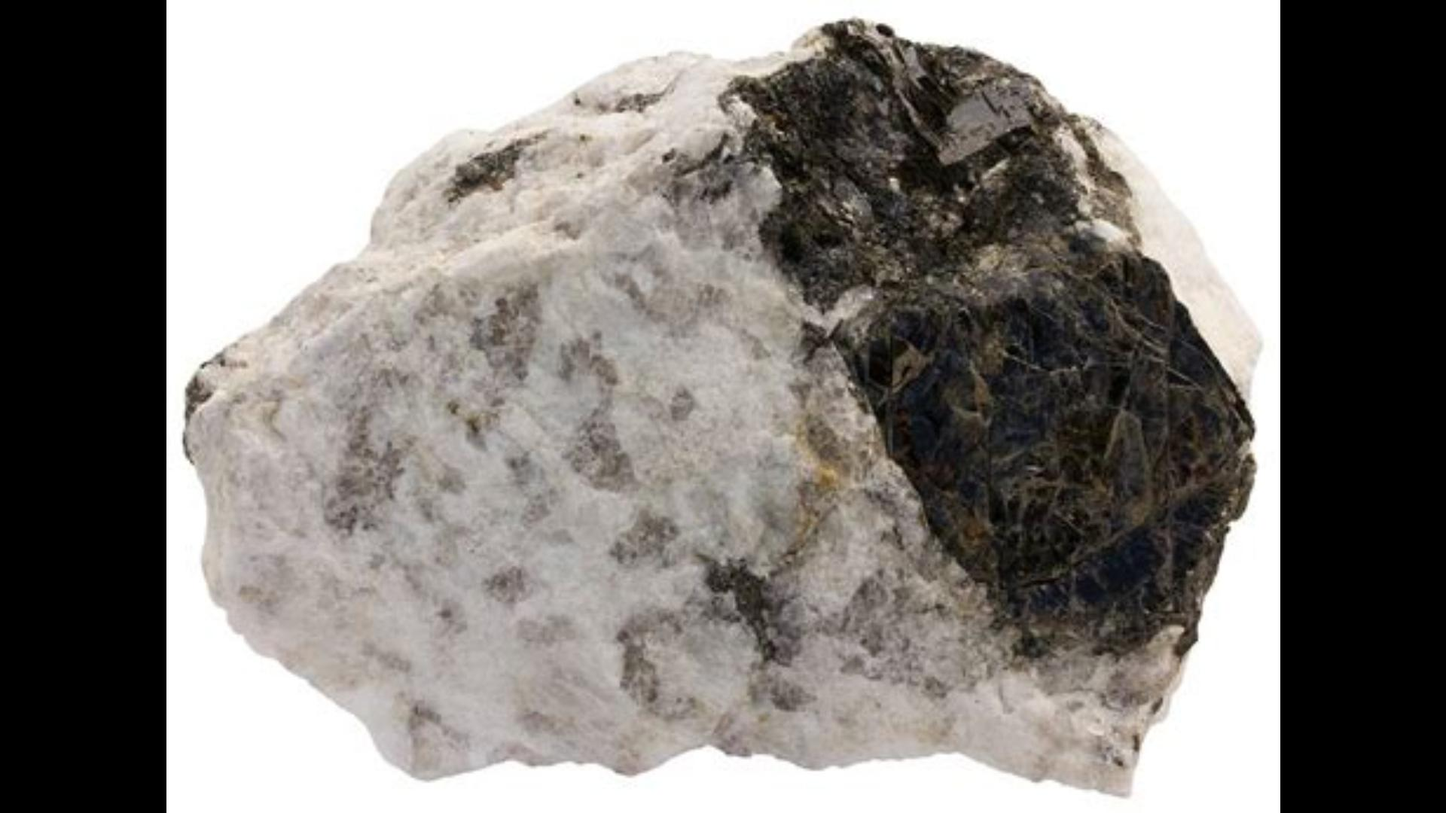rock: (192, 23, 1249, 790)
